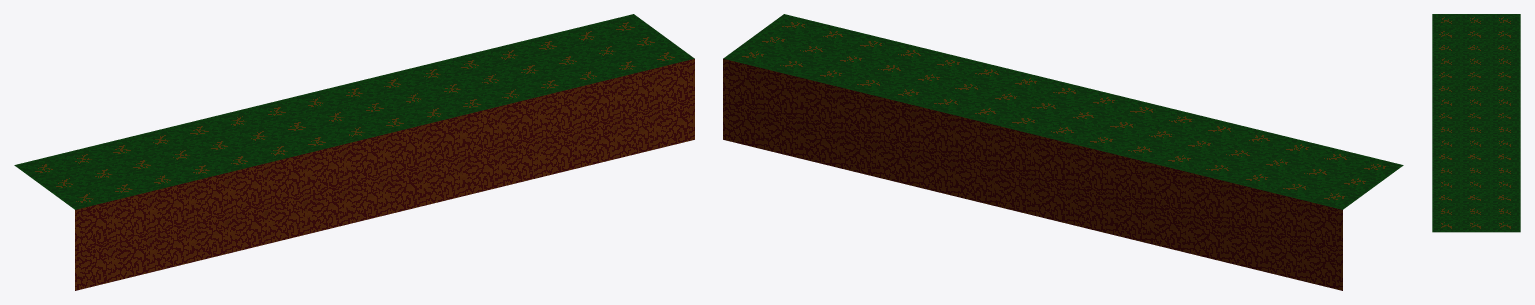
File: EndRoom5Fragil6Piso-db003a5a8aef.glb
The picture shows the model from 3 angles, left to right: view 1: azimuth 30°, elevation 25°; view 2: azimuth 150°, elevation 25°; view 3: azimuth 270°, elevation 25°; orthographic projection. The views are drawn at different scales.
Parts seen in each view (by area): view 1: Setor_3; view 2: Setor_3; view 3: Setor_3.
Part boxes in pixels (left/top/right/bottom): Setor_3: left=14, top=14, right=694, bottom=290; Setor_3: left=723, top=14, right=1403, bottom=290; Setor_3: left=1432, top=14, right=1520, bottom=232.
Size of the model in its own units: 16.64 by 2.08 by 2.84.
Materials: 1 (1 with a texture image).
